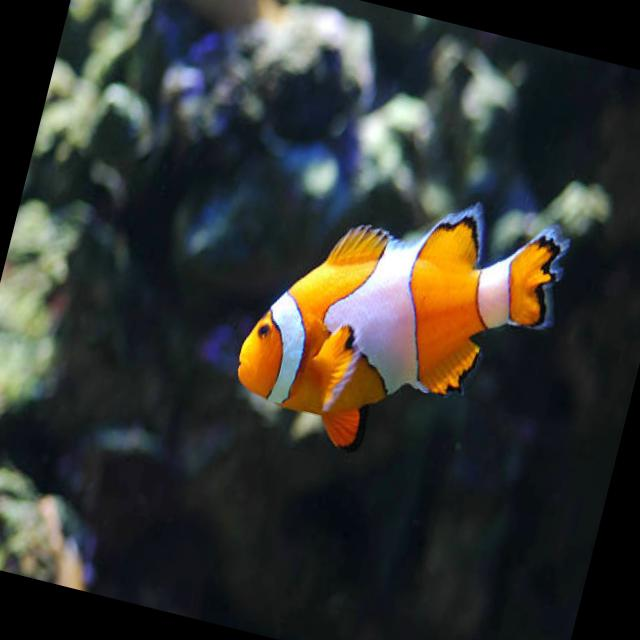ClownFish: (223, 163, 570, 490)
